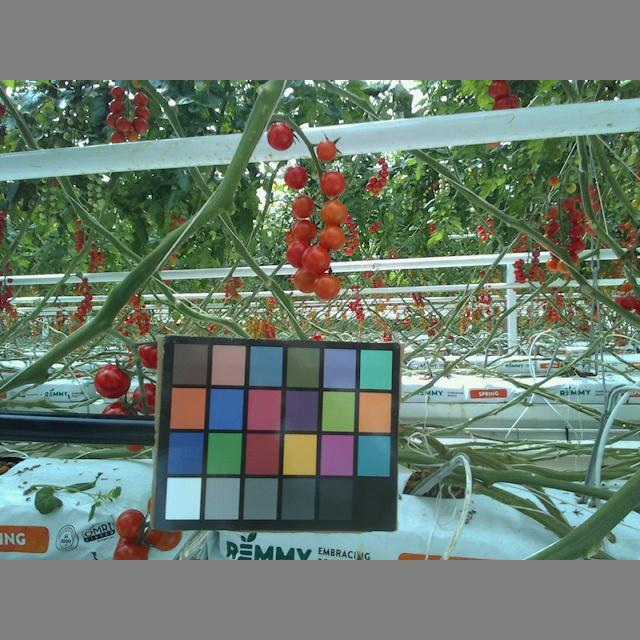pink: (292, 264, 321, 294), (311, 272, 342, 300), (284, 240, 315, 268), (303, 244, 330, 273), (319, 223, 346, 251), (321, 198, 348, 224), (321, 171, 346, 197), (291, 219, 318, 243), (292, 196, 315, 218), (318, 138, 338, 162)
red: (94, 361, 130, 399), (147, 522, 184, 551), (117, 507, 146, 540), (267, 117, 295, 150), (112, 539, 151, 560), (282, 164, 307, 188)
